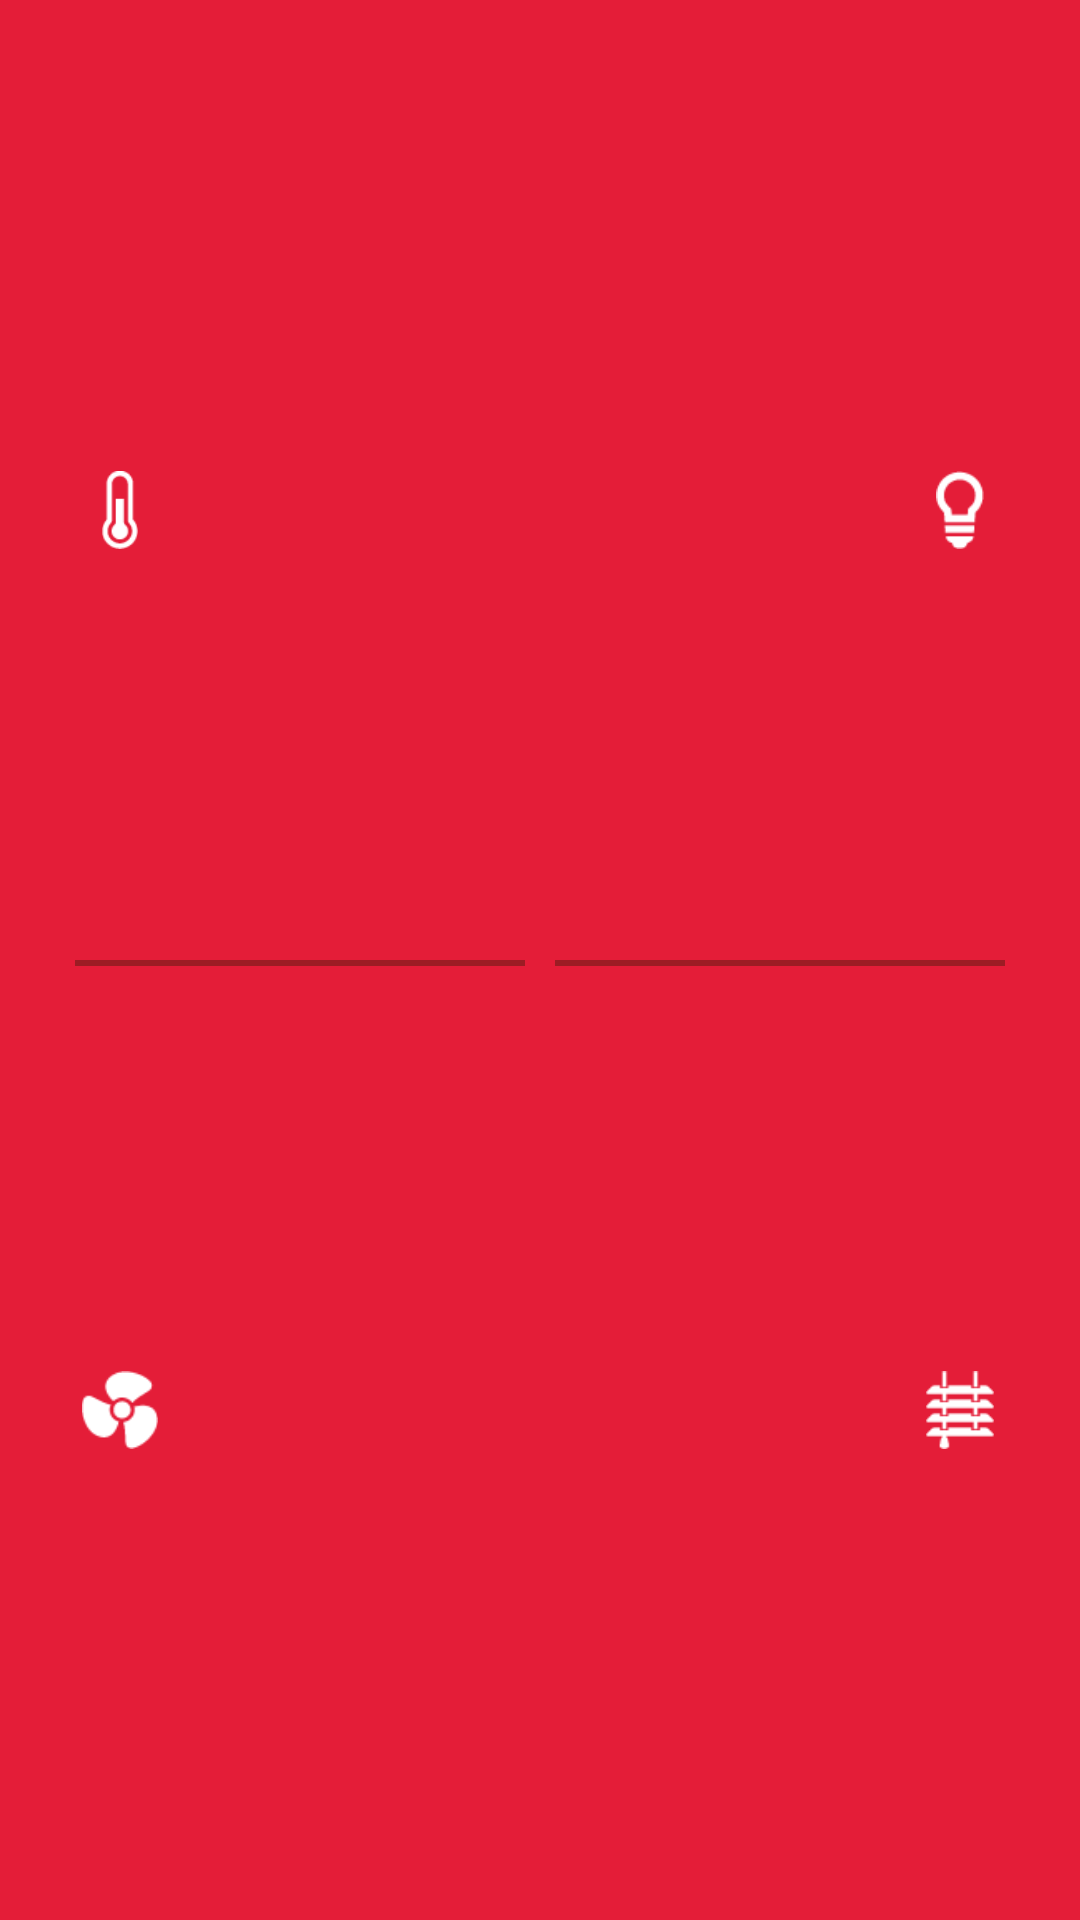

Icon bounding boxes for this 1080px×1920px phone screenshot, format (x1, y1, x2, y2):
blinds: (926, 1371, 994, 1449)
fan: (82, 1371, 158, 1449)
lights: (936, 471, 984, 549)
